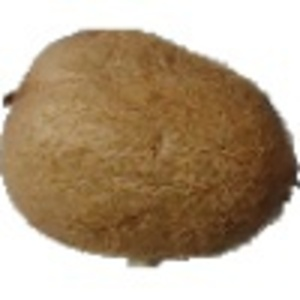kiwi: (1, 27, 300, 272)
